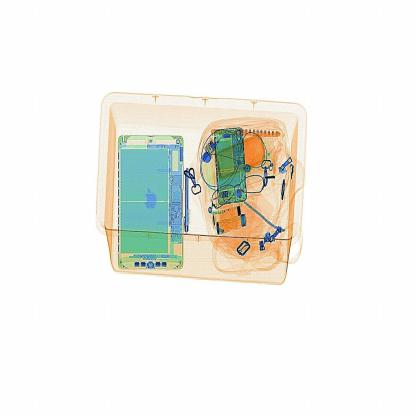pliers: (181, 164, 200, 241)
